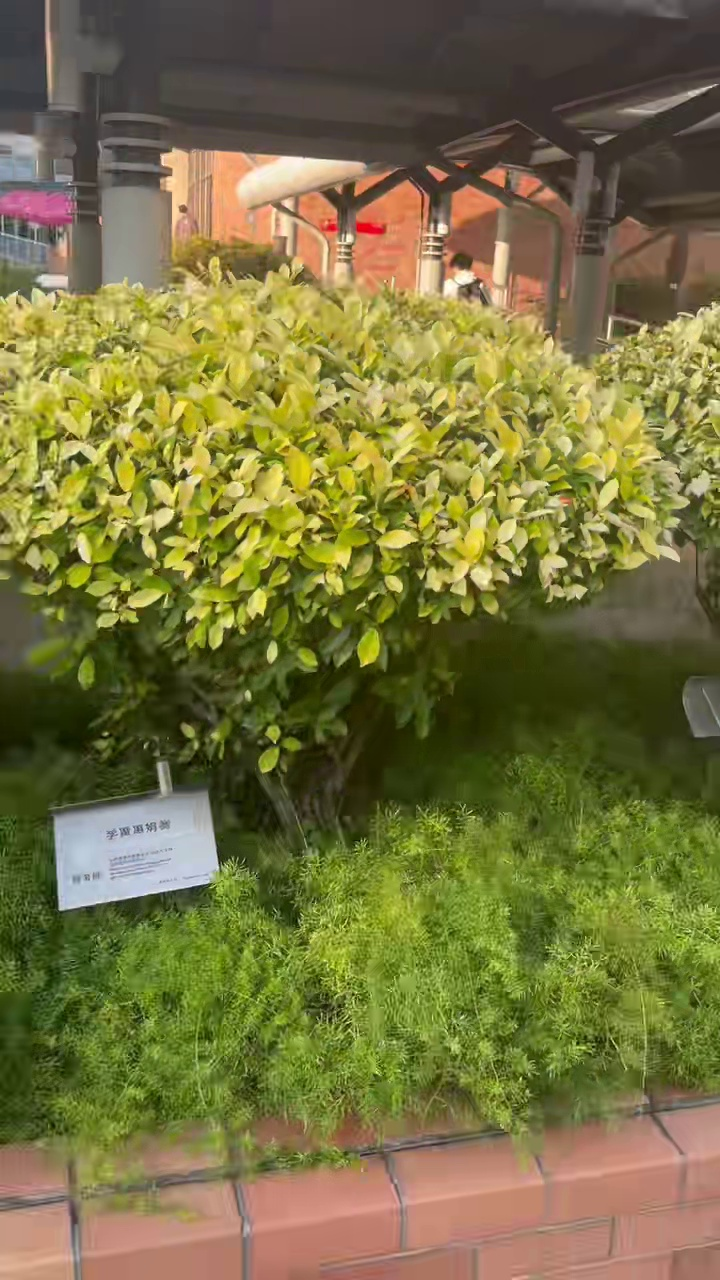Golden-leaves Fig: (0, 275, 684, 777)
